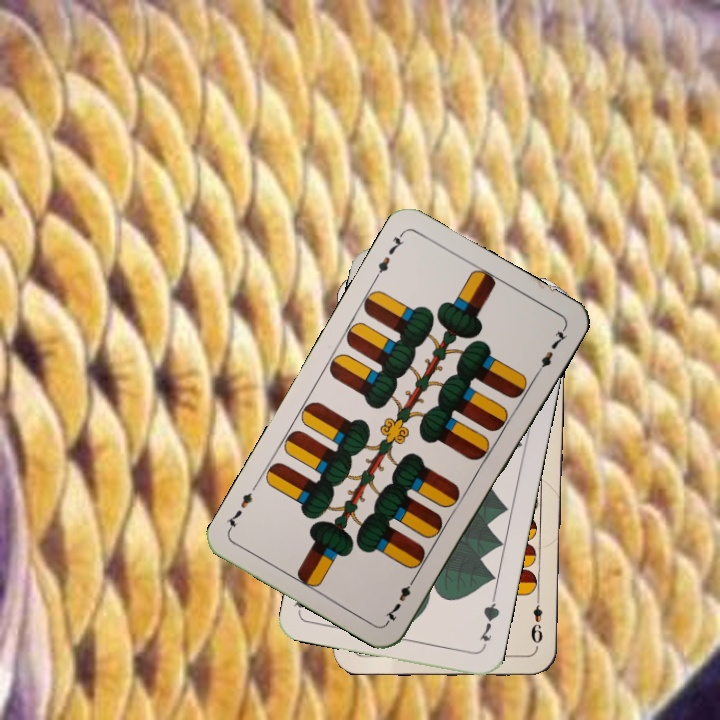E7: (381, 572, 419, 625), (370, 229, 406, 282)
E9: (527, 592, 545, 651)
G7: (475, 593, 502, 652)
